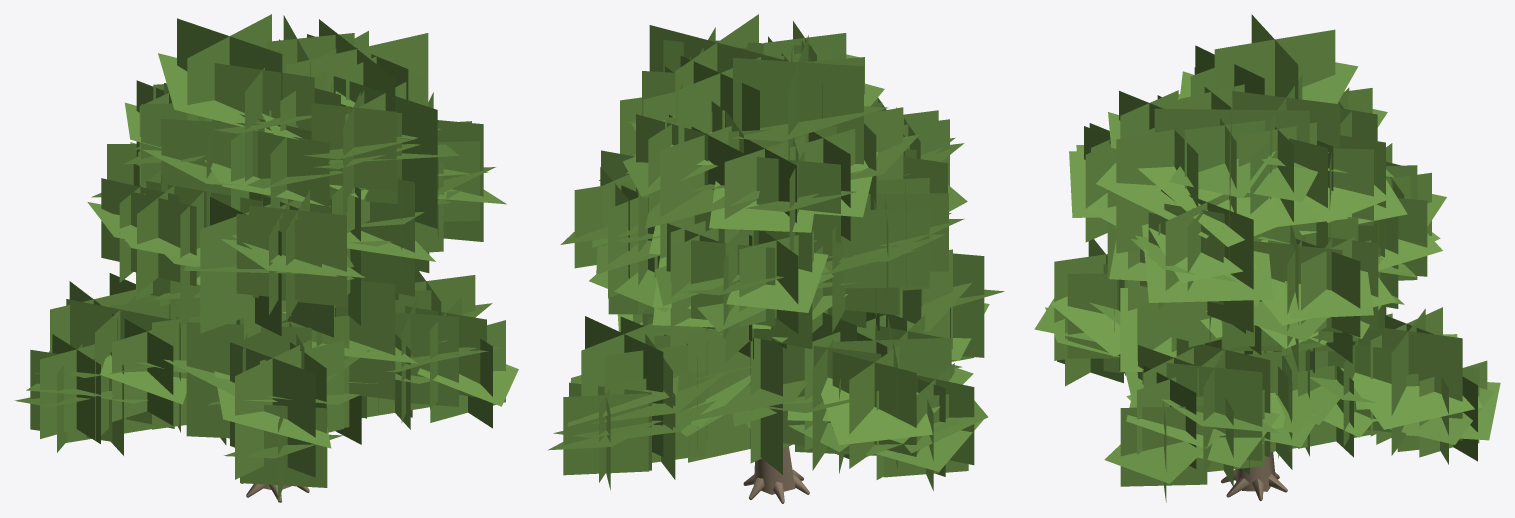
Rendered from pommier_4_f3_loin.glb.
3 renders of one model, left to right at view 1: azimuth 30°, elevation 25°; view 2: azimuth 150°, elevation 25°; view 3: azimuth 270°, elevation 25°, orthographic. The views are drawn at different scales.
Visible parts, largest first — view 1: Pommier_T4_f3_Leger_Loin; view 2: Pommier_T4_f3_Leger_Loin; view 3: Pommier_T4_f3_Leger_Loin.
Boxes of the visible parts, bbox=[...] form: Pommier_T4_f3_Leger_Loin: bbox=[14, 14, 518, 502]; Pommier_T4_f3_Leger_Loin: bbox=[548, 14, 1004, 503]; Pommier_T4_f3_Leger_Loin: bbox=[1034, 14, 1500, 502].
Bounding box in the file's own units: 9.33 × 9.31 × 9.09.
